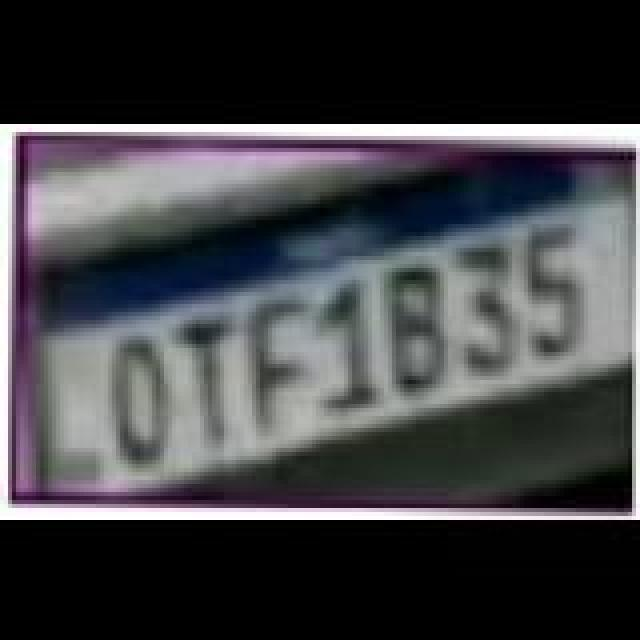1: (320, 278, 384, 410)
3: (456, 242, 520, 374)
5: (524, 222, 588, 354)
B: (382, 262, 450, 394)
F: (248, 294, 312, 426)
O: (112, 334, 176, 466)
T: (180, 314, 244, 446)
